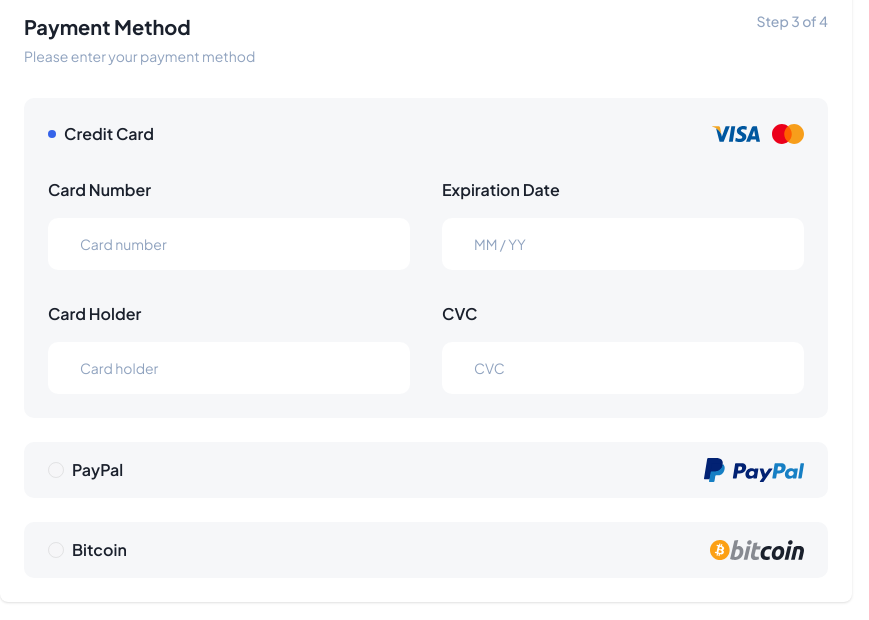
Scenario: PaymentMethod › allows typing into the expiration date field
Type "1226" into the field labelled "Expiration Date". click: (623, 244)
box: [442,218,804,270]
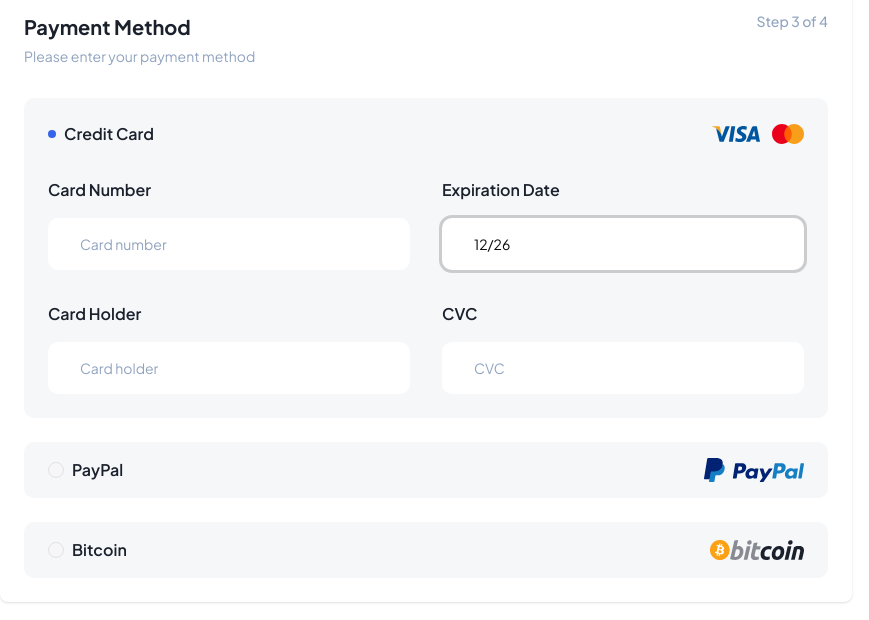
Expected: the field labelled "Expiration Date" holds "12/26", [442,218,804,270]
